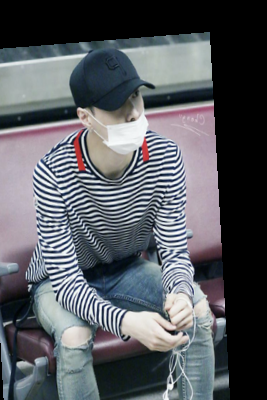mask_weared_incorrect: (68, 43, 162, 159)
